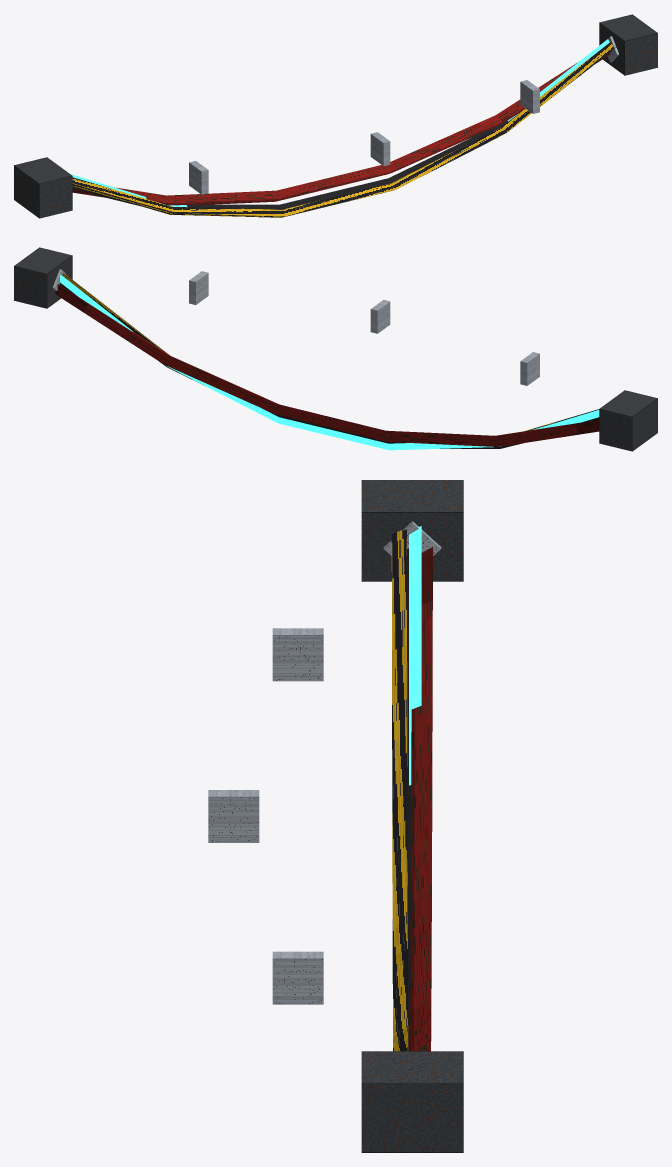
File: cable_bundle_habitation_worn.glb
3 renders of one model, top to bottom at view 1: azimuth 30°, elevation 25°; view 2: azimuth 150°, elevation 25°; view 3: azimuth 270°, elevation 25°, orthographic. The views are drawn at different scales.
Parts seen in each view (by area): view 1: cable_bundle_habitation_worn; view 2: cable_bundle_habitation_worn; view 3: cable_bundle_habitation_worn.
Part boxes in pixels (x1,y1,x2,y2): cable_bundle_habitation_worn: (14,14,657,218); cable_bundle_habitation_worn: (14,247,657,451); cable_bundle_habitation_worn: (208,480,463,1152).
Size of the model in its own units: 2.24 by 0.3614 by 0.4.
Materials: 6 (6 with a texture image).
